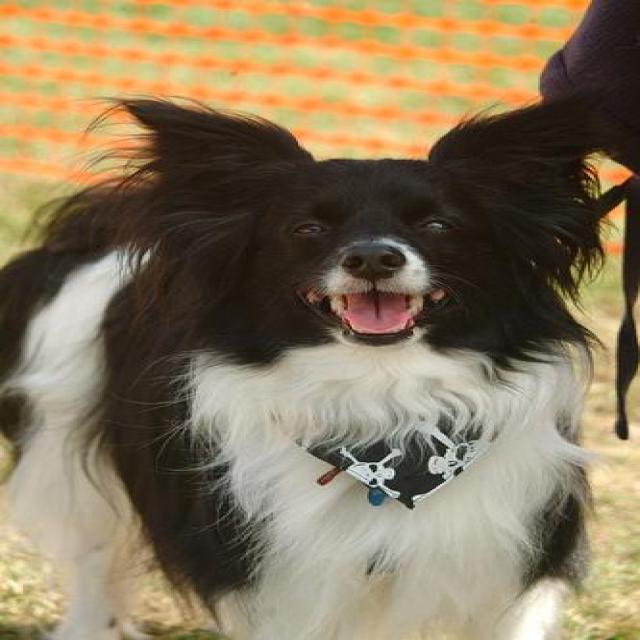papillon: (0, 96, 613, 637)
